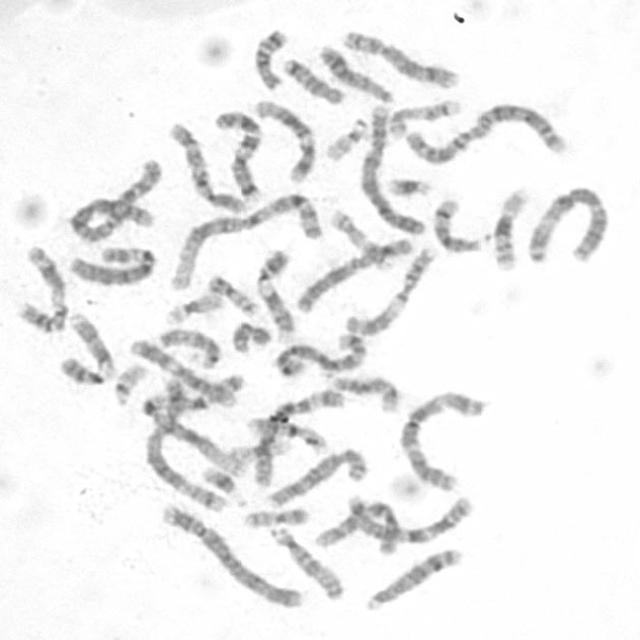A1: (163, 186, 325, 292), (140, 369, 254, 481)
A2: (397, 95, 569, 166), (65, 152, 165, 245)
A3: (393, 383, 488, 493), (520, 178, 612, 266)
B4: (154, 496, 306, 610), (354, 97, 428, 236)
B5: (136, 376, 230, 515), (268, 328, 370, 378)
C10: (163, 115, 249, 215), (309, 495, 403, 550)
C11: (338, 239, 439, 338), (12, 239, 71, 335)
C12: (125, 332, 242, 409), (249, 93, 318, 184)
C6: (247, 383, 346, 488), (62, 239, 159, 288)
C7: (309, 489, 478, 549), (209, 103, 266, 205)
C8: (336, 23, 463, 90), (262, 441, 370, 509)
C9: (54, 306, 118, 385), (250, 242, 299, 341)
D13: (358, 541, 465, 613), (313, 38, 397, 105)
D14: (427, 191, 486, 254), (323, 368, 402, 415)
D15: (266, 520, 346, 602), (153, 322, 224, 370)
E16: (486, 180, 532, 273), (242, 411, 330, 453)
E17: (324, 202, 398, 272), (382, 91, 464, 140)
E18: (276, 51, 348, 106), (247, 21, 290, 90)
F19: (159, 286, 225, 327), (224, 435, 290, 464)
F20: (202, 268, 261, 317), (239, 501, 311, 530)
G21: (196, 459, 248, 508), (381, 169, 433, 199)
G22: (319, 112, 371, 164), (106, 357, 149, 408)
X: (291, 232, 417, 314)
Y: (225, 315, 274, 354)
